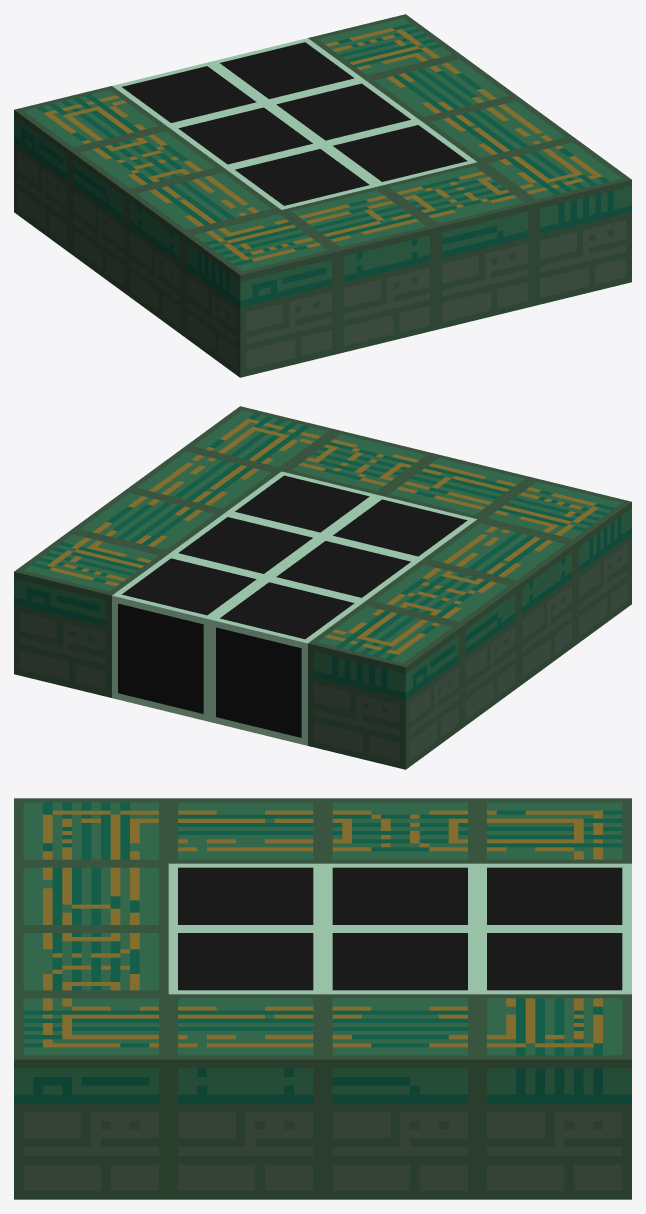
Rendered from m_tiles_5_4x4.fbx.
3 views of the same model, one above another, from view 1: azimuth 30°, elevation 25°; view 2: azimuth 150°, elevation 25°; view 3: azimuth 270°, elevation 25° (orthographic). The views are drawn at different scales.
Parts seen in each view (by area): view 1: m_tiles_5_4x4; view 2: m_tiles_5_4x4; view 3: m_tiles_5_4x4.
Boxes of the visible parts, left/top/right/bottom form: m_tiles_5_4x4: left=14, top=14, right=631, bottom=377; m_tiles_5_4x4: left=14, top=406, right=631, bottom=769; m_tiles_5_4x4: left=14, top=798, right=631, bottom=1199.
Size of the model in its own units: 6.4 by 1.6 by 6.4.
1 material, 1 textured.
